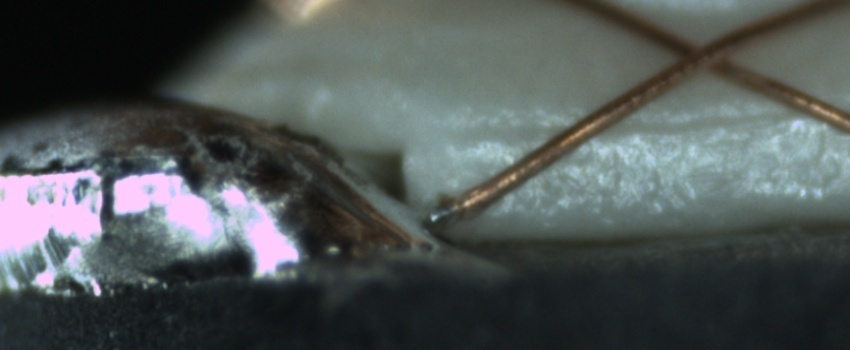CL: (656, 23, 750, 87)
DL: (444, 95, 849, 162)
TS: (420, 202, 462, 226)
